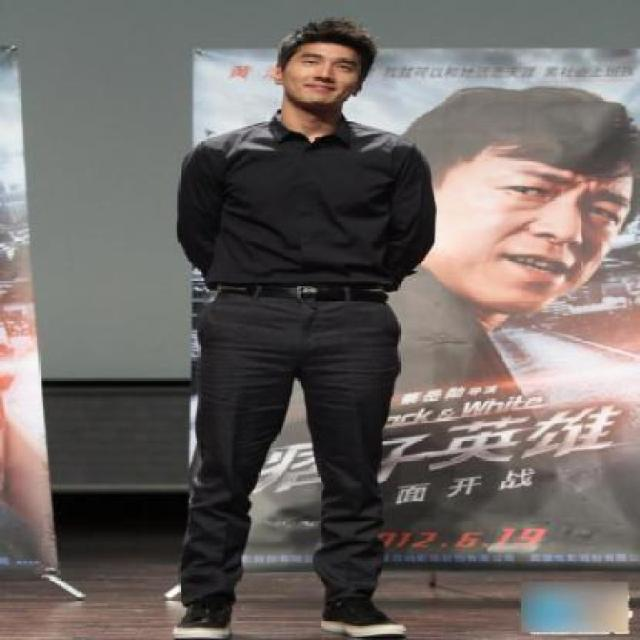Person: (109, 0, 478, 638)
